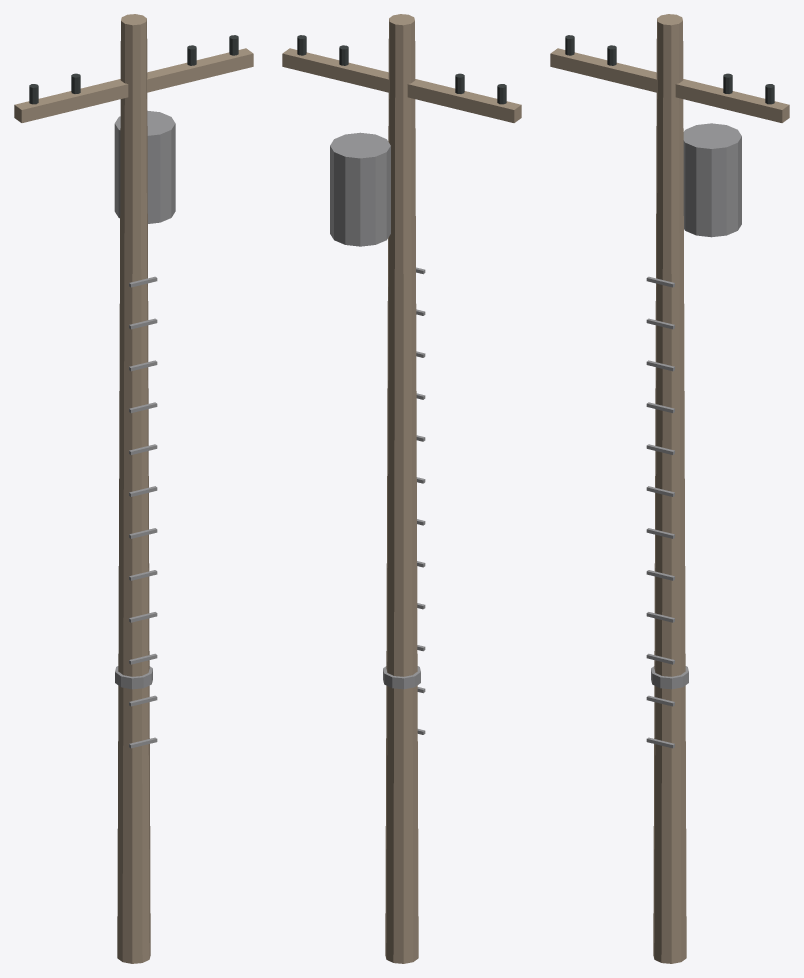
The model's file is pole.glb.
3 views of the same model, side by side, from view 1: azimuth 30°, elevation 25°; view 2: azimuth 150°, elevation 25°; view 3: azimuth 330°, elevation 25° (orthographic).
Visible parts, largest first — view 1: Pole; view 2: Pole; view 3: Pole.
Boxes of the visible parts, bbox=[...] form: Pole: bbox=[14, 14, 253, 963]; Pole: bbox=[282, 14, 521, 963]; Pole: bbox=[550, 14, 789, 963].
Size of the model in its own units: 2.2 by 8.5 by 0.665.
